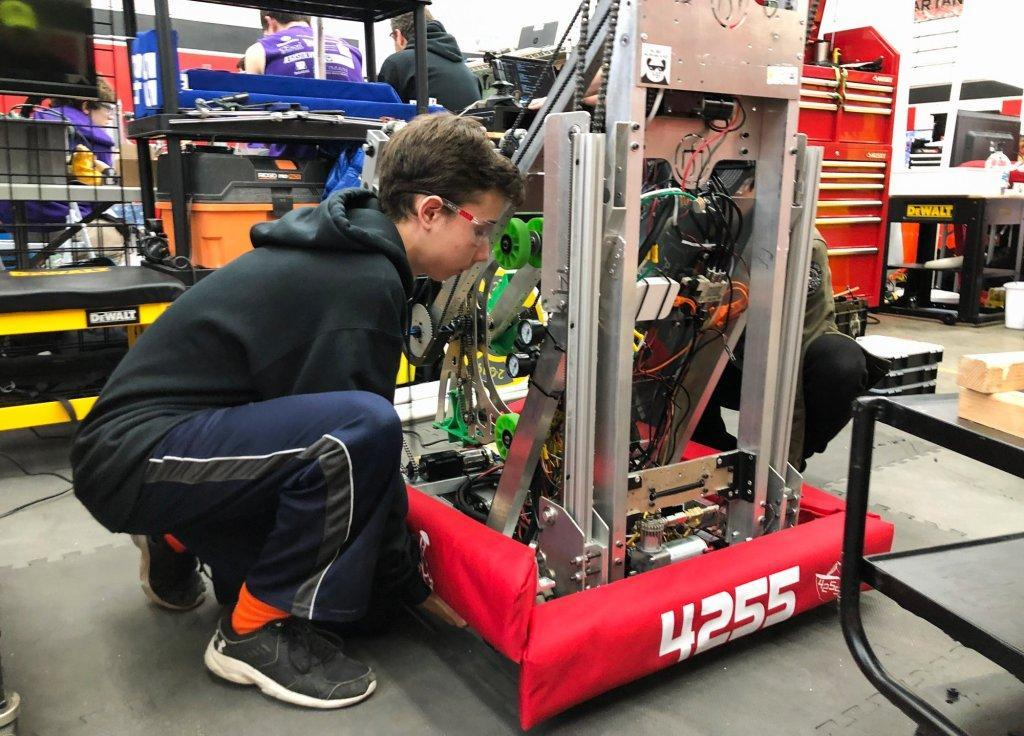robot: (379, 0, 891, 734)
